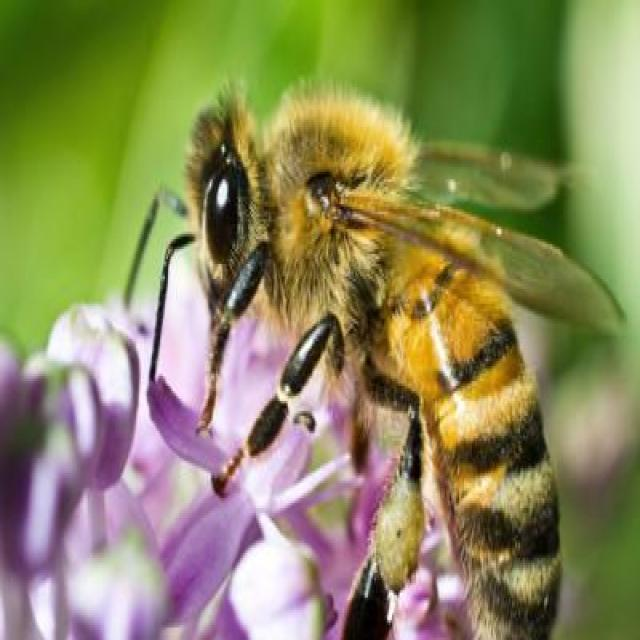antennae: (120, 183, 192, 317), (145, 229, 200, 398)
body: (192, 91, 563, 638)
insect: (115, 72, 627, 640)
legs: (331, 356, 427, 640), (209, 306, 346, 497), (191, 239, 279, 444)
mouthpart: (203, 279, 233, 340)
wings: (328, 176, 626, 338), (404, 138, 556, 208)
